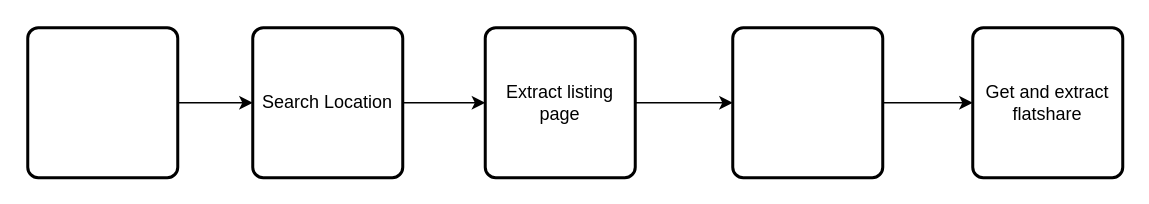
The diagram is 1149 pixels wide and 204 high, and some of its shapes have lost their labels. The shapes that lost their labels are listed below. From the top down, each one's centre as x and y in pixels, then its label:
the point at 102,102: Iterate Location List
the point at 807,102: Iterate flatshareId
